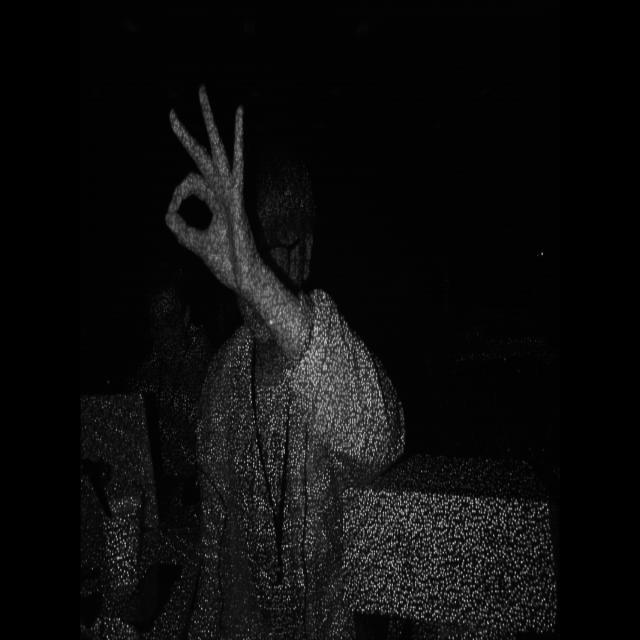F: (152, 68, 265, 293)
